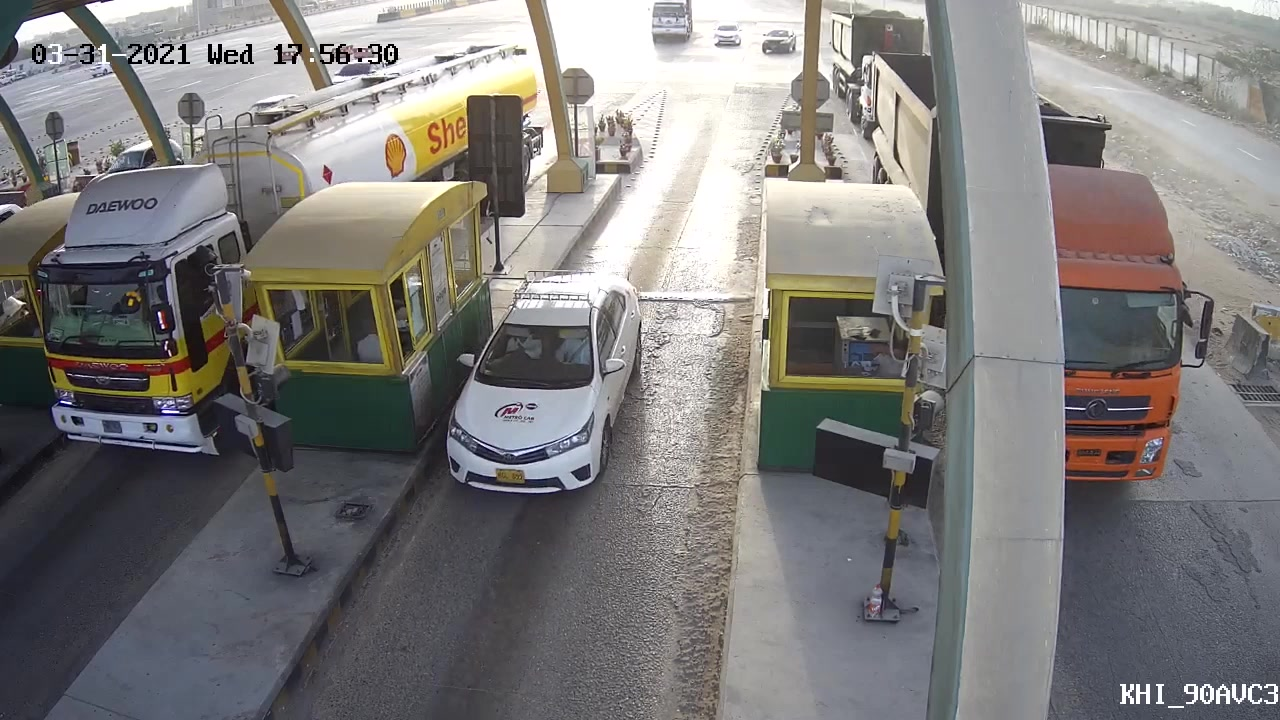F1: (435, 268, 652, 503)
